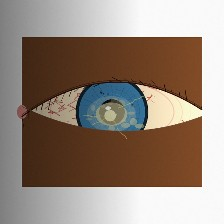corneal_ulcer: (86, 94, 137, 135)
